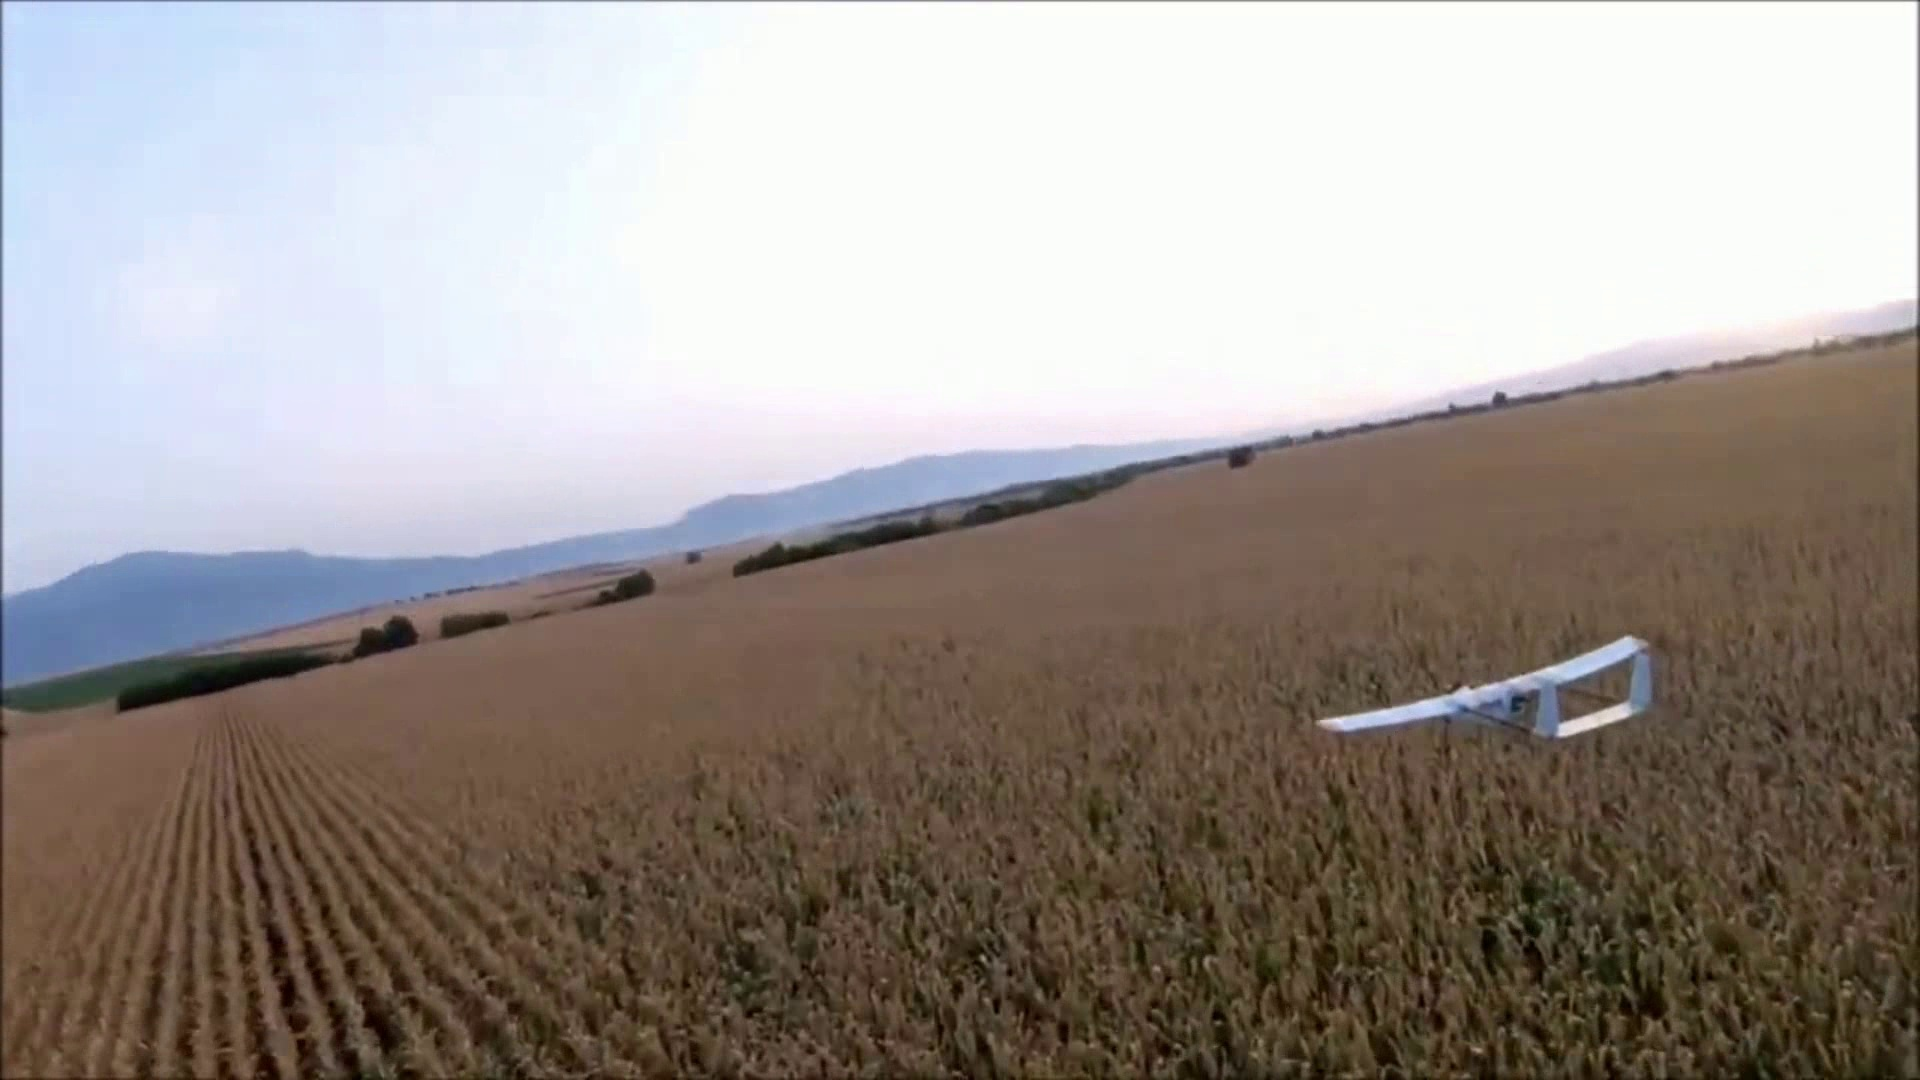airplane: (1316, 633, 1656, 742)
